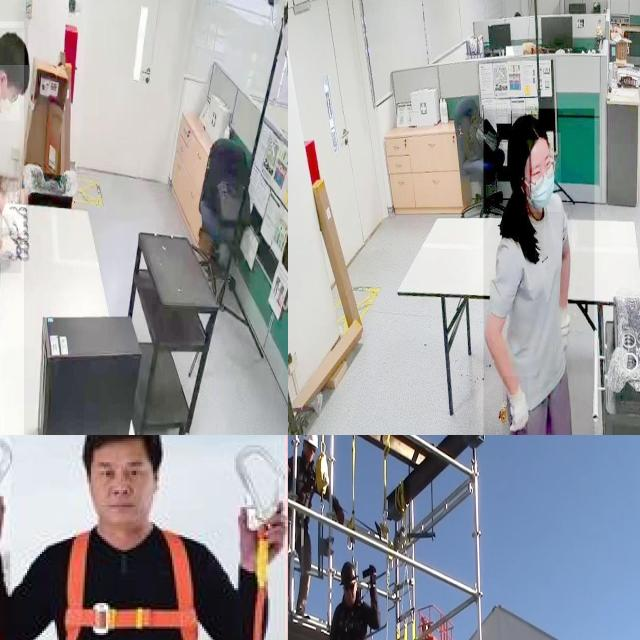Harness: (48, 522, 208, 640), (288, 456, 315, 555), (336, 591, 369, 640)
face_mask: (519, 132, 561, 212), (0, 82, 19, 121)
glasses: (531, 160, 557, 190)
hand_glove: (503, 376, 528, 435), (0, 192, 25, 237), (0, 227, 21, 273)
head_nohelmet: (0, 28, 28, 66), (508, 114, 548, 140)
person: (483, 108, 594, 435), (0, 21, 24, 435)
